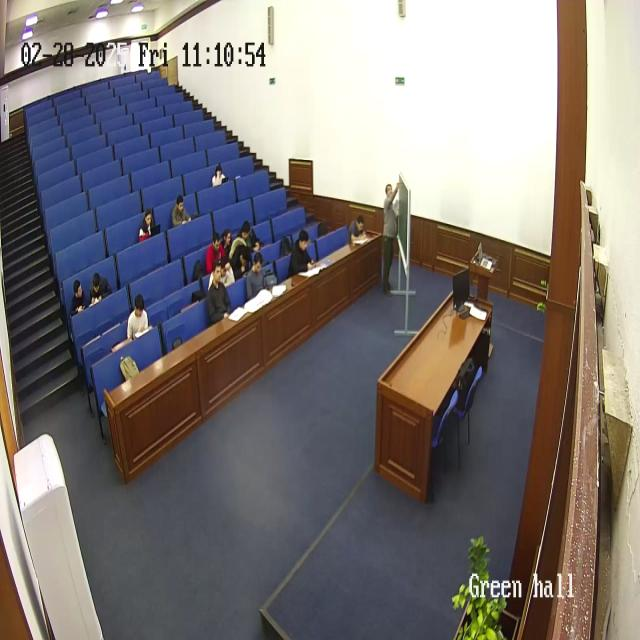person: (382, 180, 400, 294), (205, 259, 232, 325), (288, 230, 316, 276), (126, 294, 150, 340), (245, 252, 267, 300), (206, 232, 227, 276), (233, 219, 257, 257), (88, 273, 112, 307), (230, 241, 250, 281), (70, 280, 90, 316), (172, 194, 192, 227), (138, 208, 156, 241), (349, 214, 367, 244), (212, 162, 226, 186), (220, 226, 233, 246)
